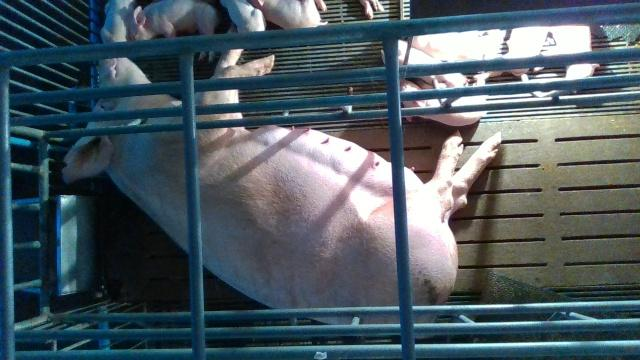piglet: (132, 0, 219, 61), (401, 75, 489, 126), (249, 0, 327, 28), (101, 0, 138, 42), (222, 0, 266, 31)
sow-sleep-lactate: (63, 56, 502, 326)
